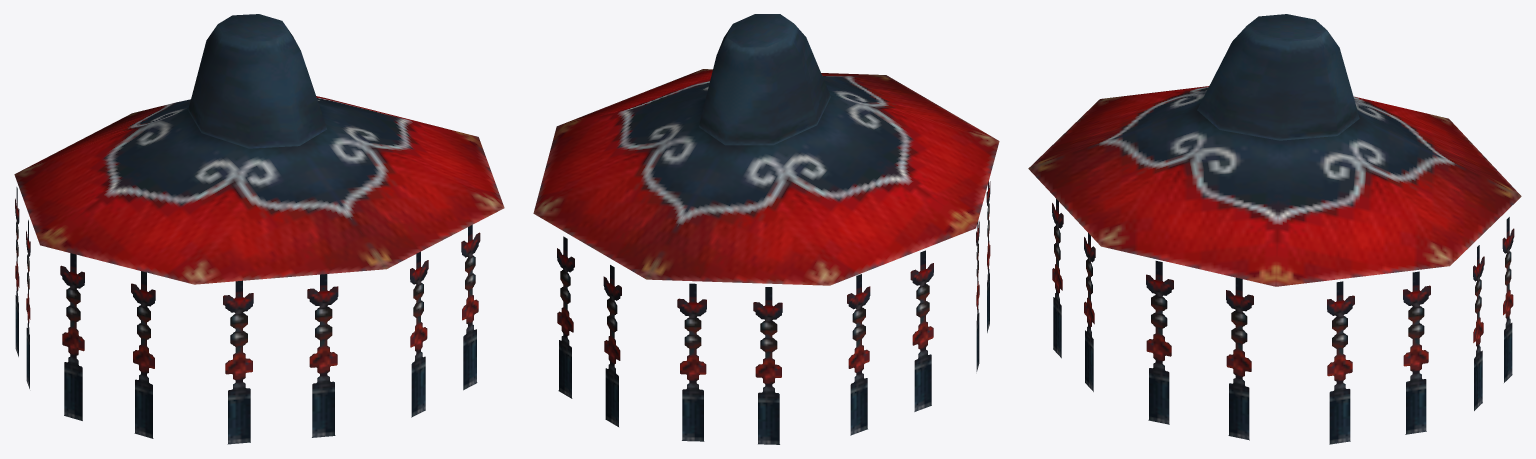
3 renders of one model, left to right at view 1: azimuth 30°, elevation 25°; view 2: azimuth 150°, elevation 25°; view 3: azimuth 270°, elevation 25°, orthographic. The views are drawn at different scales.
Parts seen in each view (by area): view 1: clothes_03_ha, clothes_03_ha_2s; view 2: clothes_03_ha, clothes_03_ha_2s; view 3: clothes_03_ha, clothes_03_ha_2s.
Part boxes in pixels (x1,y1,x2,y2): clothes_03_ha: (14,14,504,284); clothes_03_ha_2s: (15,187,480,444); clothes_03_ha: (533,14,999,285); clothes_03_ha_2s: (557,181,990,444); clothes_03_ha: (1028,14,1521,286); clothes_03_ha_2s: (1052,199,1514,444).
Bounding box in the file's own units: 0.5424 × 0.4041 × 0.5413.
1 material, 1 textured.
